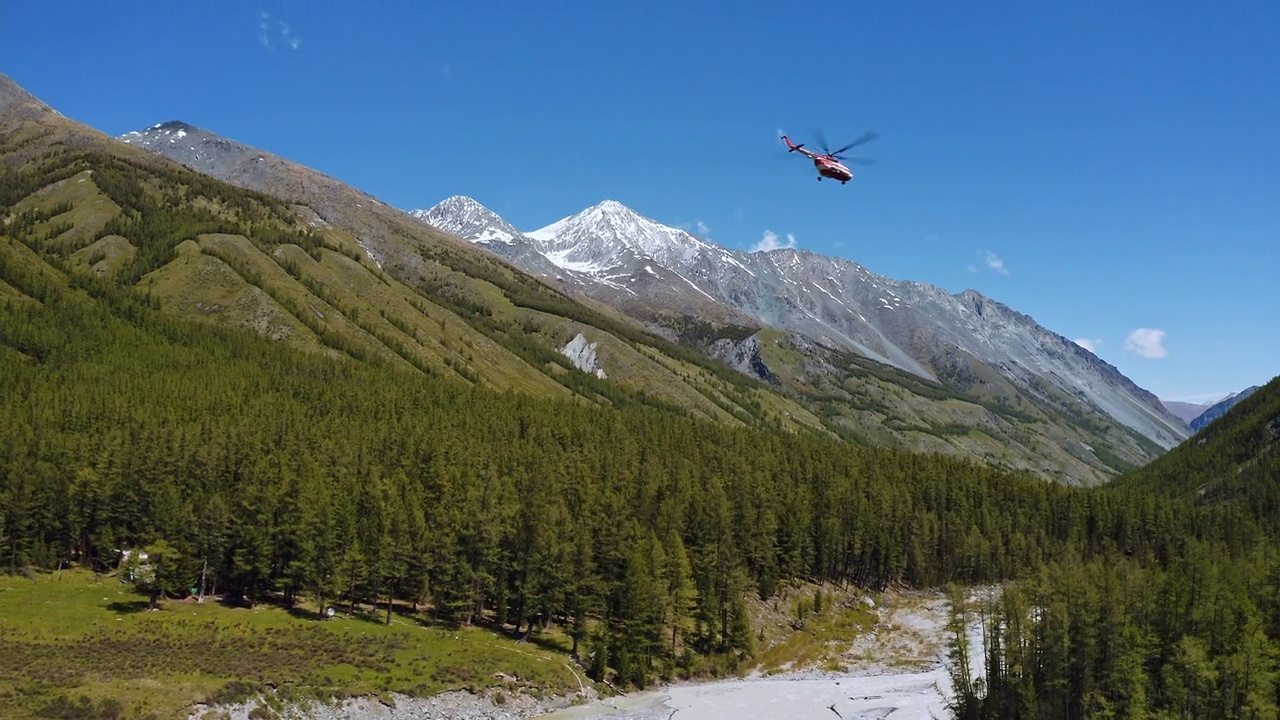heli: (778, 126, 878, 186)
